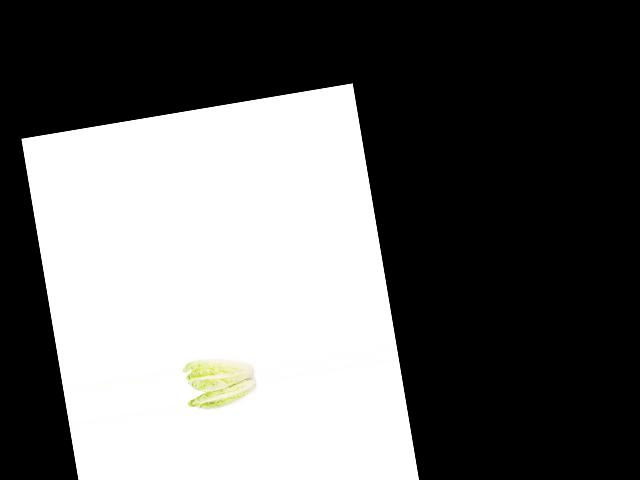lettuce: (184, 376, 264, 420)
